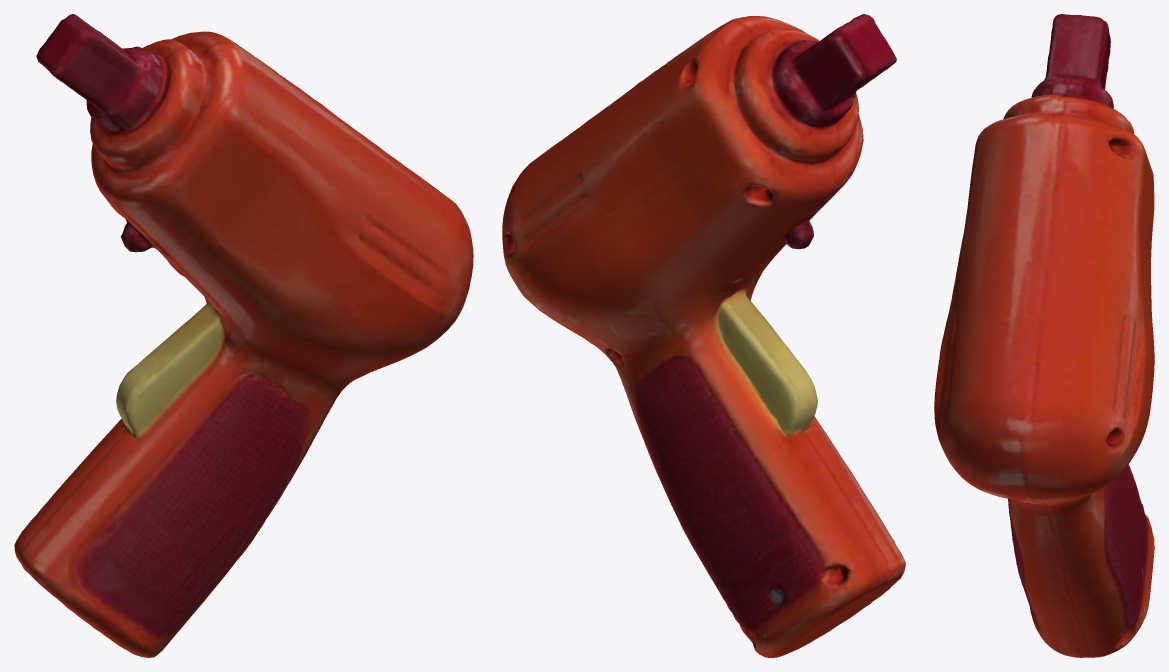
File: ddg-ycb_072-b_toy_airplane.glb
The picture shows the model from 3 angles, left to right: view 1: azimuth 30°, elevation 25°; view 2: azimuth 150°, elevation 25°; view 3: azimuth 270°, elevation 25°; orthographic projection. The views are drawn at different scales.
Parts seen in each view (by area): view 1: textured(Clone); view 2: textured(Clone); view 3: textured(Clone).
Part boxes in pixels (left/top/right/bottom): textured(Clone): left=14, top=14, right=473, bottom=657; textured(Clone): left=502, top=14, right=905, bottom=657; textured(Clone): left=934, top=14, right=1154, bottom=657.
Size of the model in its own units: 1.16 by 1.75 by 0.5718.
1 material, 1 textured.
